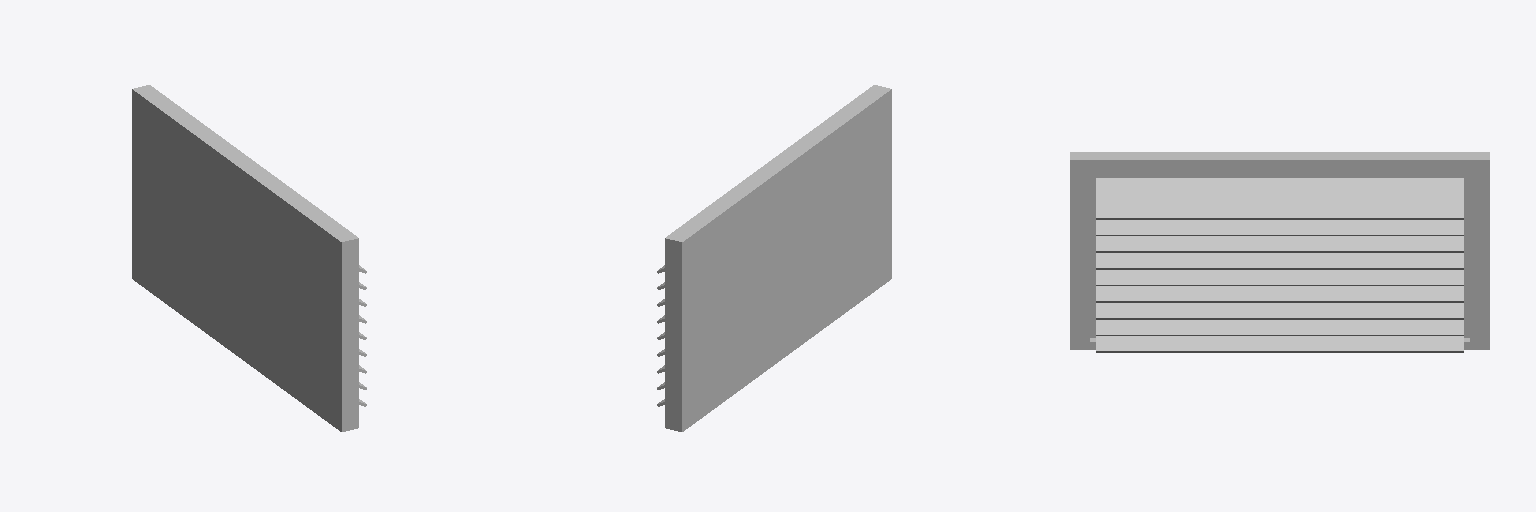
The model's file is VentLarge.obj.
3 renders of one model, left to right at view 1: azimuth 30°, elevation 25°; view 2: azimuth 150°, elevation 25°; view 3: azimuth 270°, elevation 25°, orthographic.
Visible parts, largest first — view 1: Large_Vent_Cube.007; view 2: Large_Vent_Cube.007; view 3: Large_Vent_Cube.007.
Boxes of the visible parts, box(x1,y1,x2,y2) form: Large_Vent_Cube.007: box(132, 85, 366, 431); Large_Vent_Cube.007: box(657, 85, 891, 431); Large_Vent_Cube.007: box(1070, 152, 1489, 352).
Bounding box in the file's own units: 0.4244 × 2 × 4.